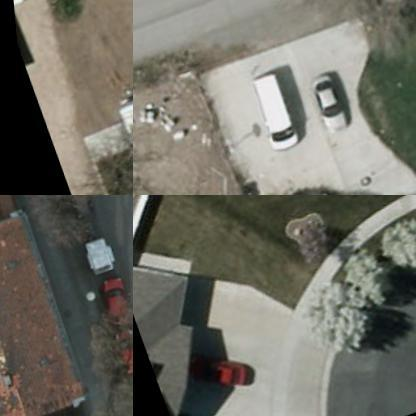camping car: (111, 95, 132, 179)
car: (174, 333, 245, 404), (301, 69, 349, 143), (92, 276, 132, 335), (104, 323, 132, 386), (54, 195, 104, 229)
van: (246, 70, 301, 162)
